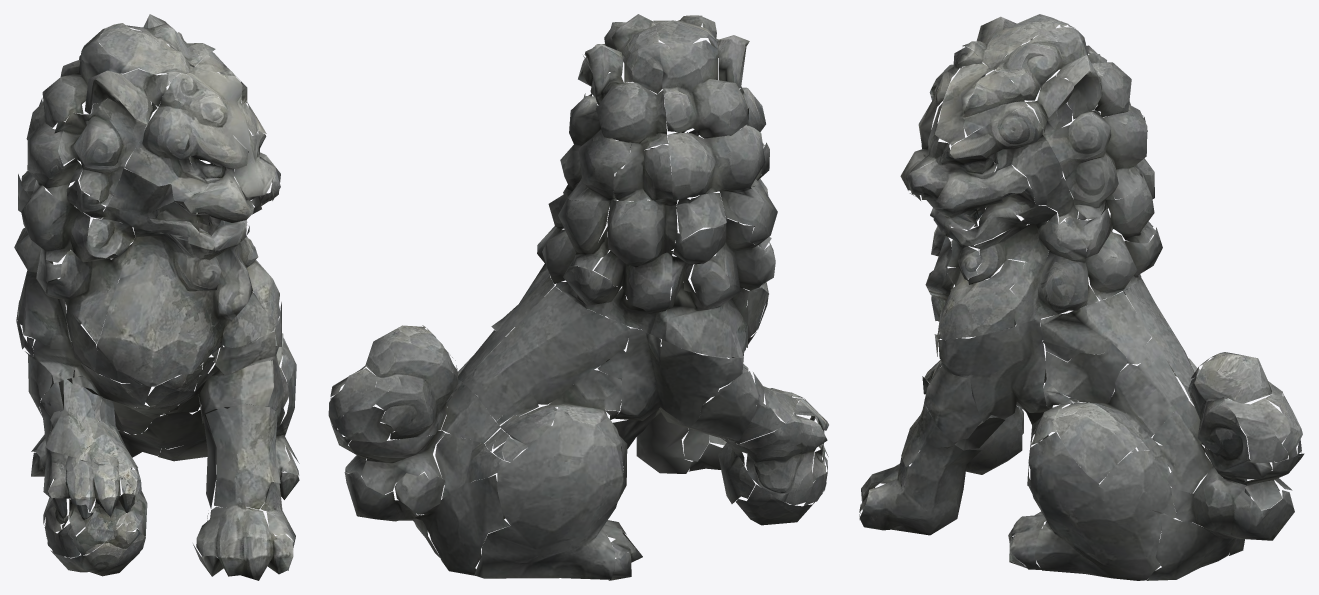
The model's file is stone_lion.glb.
The picture shows the model from 3 angles, left to right: view 1: azimuth 30°, elevation 25°; view 2: azimuth 150°, elevation 25°; view 3: azimuth 270°, elevation 25°; orthographic projection. The views are drawn at different scales.
Visible parts, largest first — view 1: tripo_node_cdf883e6-deed-4265-a8ec-8ffe693dc877; view 2: tripo_node_cdf883e6-deed-4265-a8ec-8ffe693dc877; view 3: tripo_node_cdf883e6-deed-4265-a8ec-8ffe693dc877.
Boxes of the visible parts, x1=… form: tripo_node_cdf883e6-deed-4265-a8ec-8ffe693dc877: x1=14, y1=14, x2=299, y2=580; tripo_node_cdf883e6-deed-4265-a8ec-8ffe693dc877: x1=328, y1=14, x2=828, y2=580; tripo_node_cdf883e6-deed-4265-a8ec-8ffe693dc877: x1=859, y1=14, x2=1304, y2=580.
Size of the model in its own units: 0.6971 by 0.9879 by 0.8366.
1 material, 1 textured.
